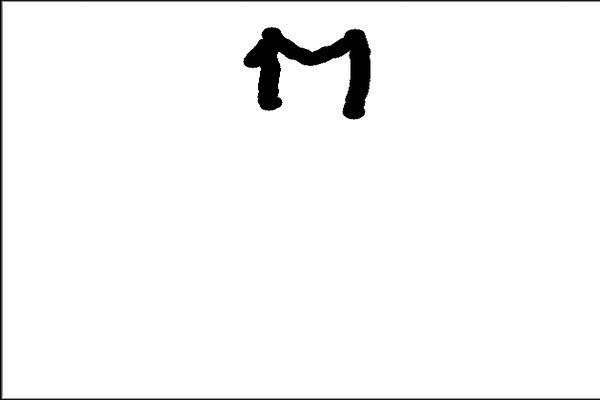M: (245, 18, 372, 119)
